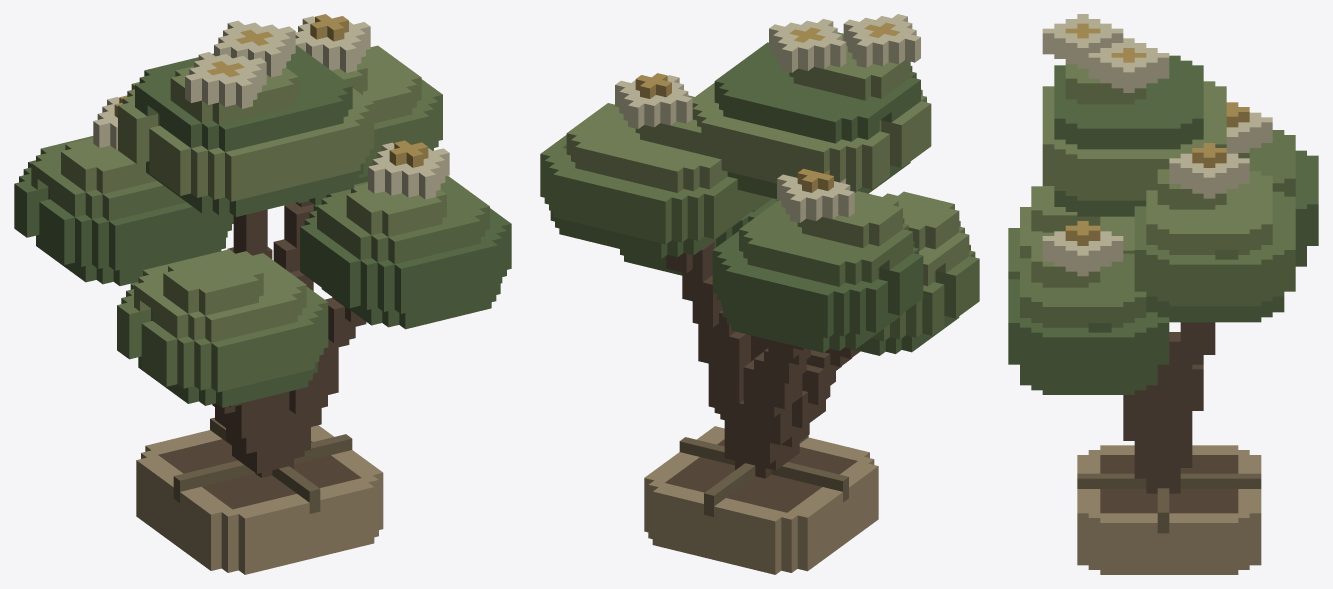
File: elderberry_packed_spring.glb
3 views of the same model, side by side, from view 1: azimuth 30°, elevation 25°; view 2: azimuth 150°, elevation 25°; view 3: azimuth 270°, elevation 25° (orthographic). The views are drawn at different scales.
Parts seen in each view (by area): view 1: VoxelVisual; view 2: VoxelVisual; view 3: VoxelVisual.
Boxes of the visible parts, box(x1,y1,x2,y2) form: VoxelVisual: box(14, 14, 511, 574); VoxelVisual: box(540, 14, 979, 574); VoxelVisual: box(1008, 14, 1318, 574).
Size of what is drawn, in the model's own units: 2.12 by 2.81 by 1.69.
